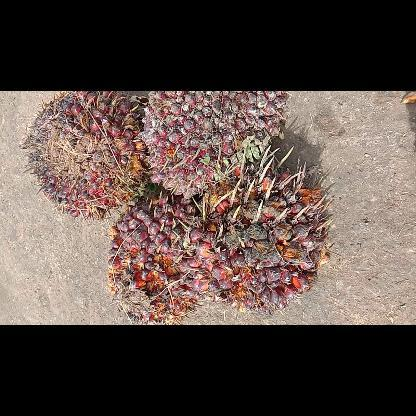Kurang masak: (137, 90, 290, 202), (20, 91, 148, 221)
TBS masak: (185, 142, 339, 316), (104, 192, 218, 324)
